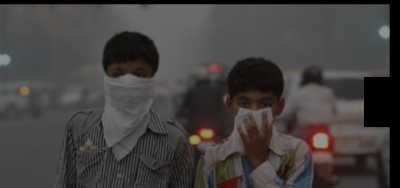with_mask: (104, 65, 152, 107), (231, 94, 277, 136)
